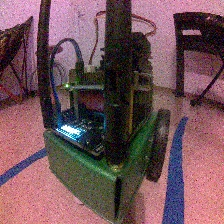rob: (41, 30, 171, 224)
